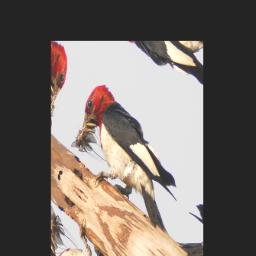Woodpecker: (67, 75, 190, 248)
